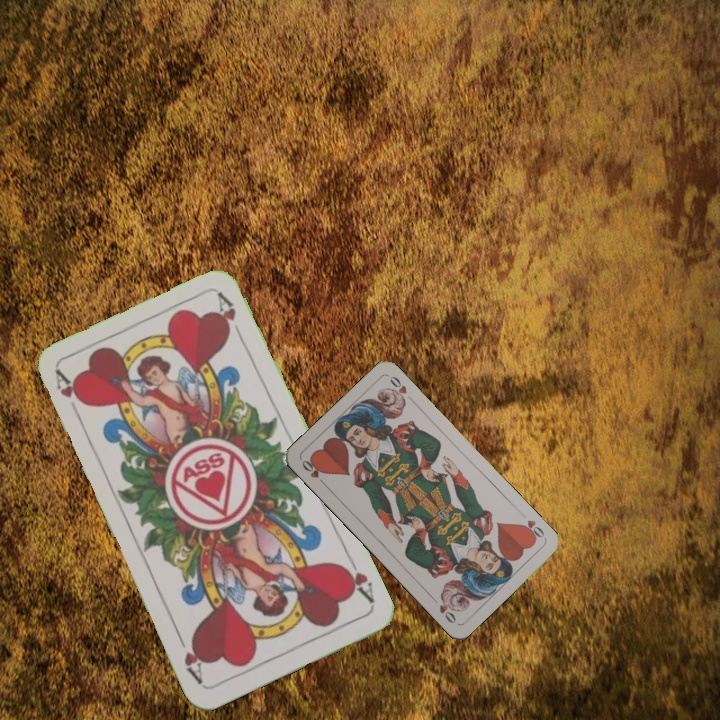HA: (337, 551, 377, 606), (51, 367, 86, 423)
HO: (298, 455, 329, 489), (516, 516, 548, 543)
